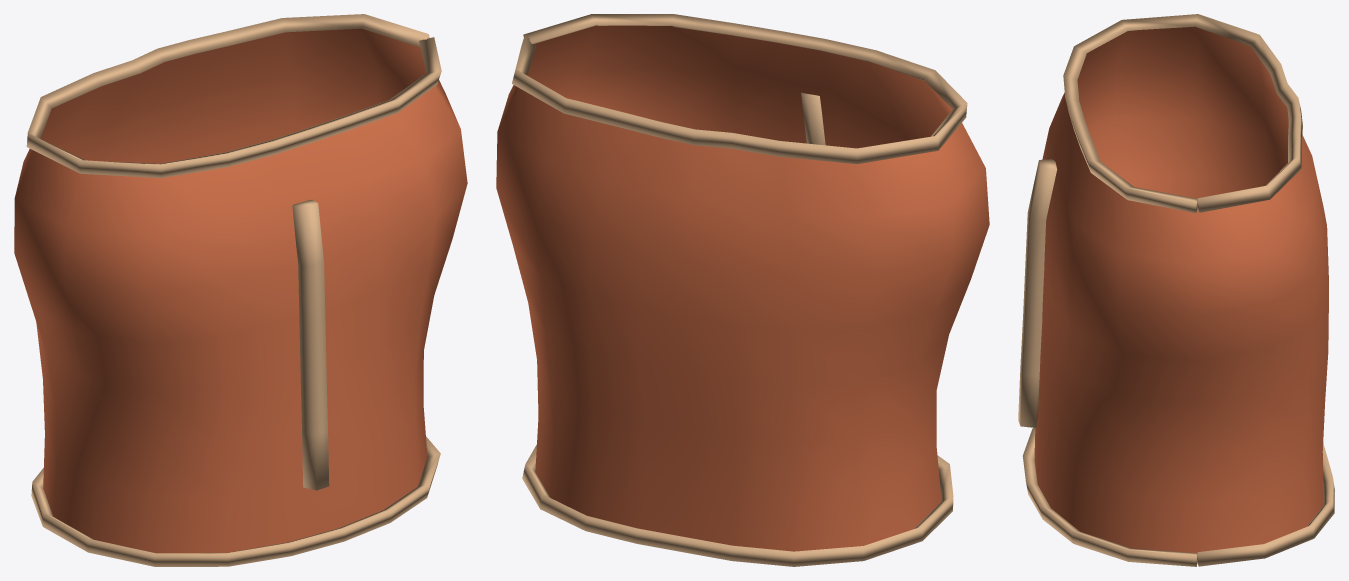
File: palladium_armor_chest.glb
3 renders of one model, left to right at view 1: azimuth 30°, elevation 25°; view 2: azimuth 150°, elevation 25°; view 3: azimuth 270°, elevation 25°, orthographic. The views are drawn at different scales.
Parts seen in each view (by area): view 1: palladium_armor_chest; view 2: palladium_armor_chest; view 3: palladium_armor_chest.
Boxes of the visible parts, x1=… form: palladium_armor_chest: x1=14, y1=14, x2=467, y2=566; palladium_armor_chest: x1=496, y1=14, x2=989, y2=566; palladium_armor_chest: x1=1018, y1=14, x2=1334, y2=566.
Bounding box in the file's own units: 0.4364 × 0.3859 × 0.2937.
